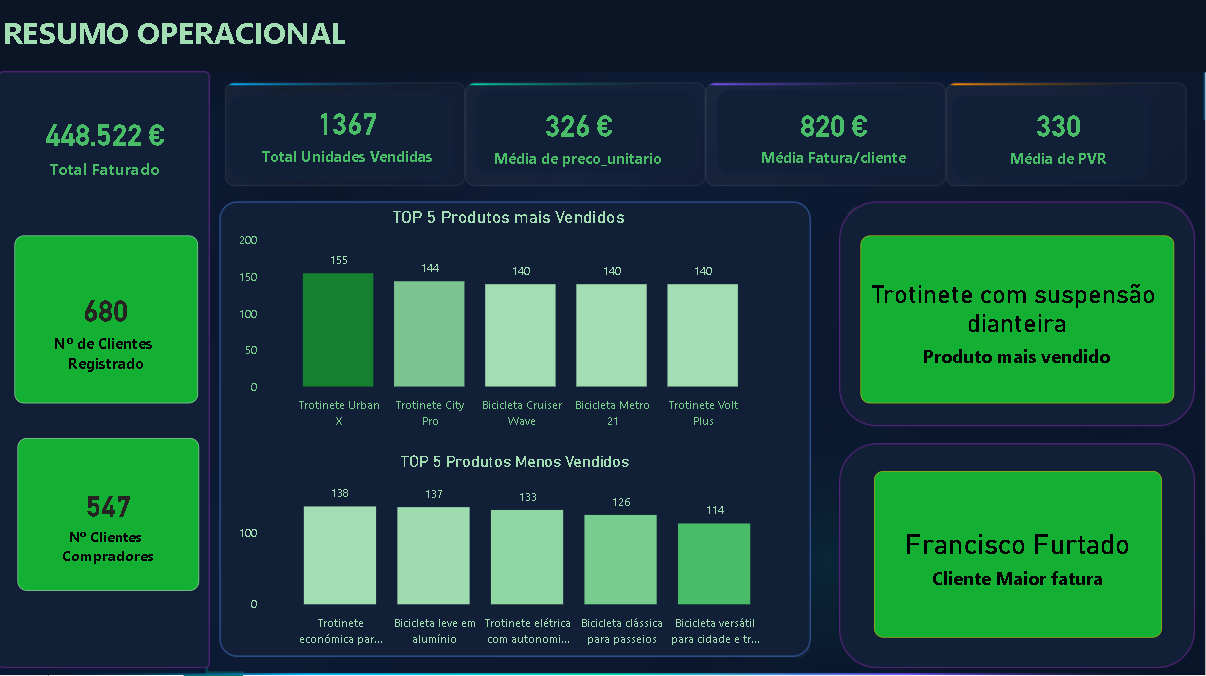

The page's visual inventory and layout, read from the dashboard file:
{"tool":"powerbi","page":{"name":"RESUMO ","canvas":[1280,720],"ordinal":0},"visuals":[{"type":"card","title":"dfsadfasdfas","fields":{"Values":["Sum(vendas.Total da Fatura)"]},"box":[18.2,89.1,190.4,133.7],"z":0},{"type":"card","fields":{"Values":["Sum(vendas.quantidade)"]},"box":[265.3,99.2,208.6,89.1],"z":1000},{"type":"card","fields":{"Values":["Avg(vendas.preco_unitario)"]},"box":[510.6,103.4,208.4,84.3],"z":2000},{"type":"card","fields":{"Values":["Avg(produtos.PVR)"]},"box":[1019.6,103.4,210,84.3],"z":3000},{"type":"card","fields":{"Values":["CountNonNull(clientes.id)"]},"box":[18.2,253.2,194.4,178.2],"z":4000},{"type":"card","fields":{"Values":["Count(vendas.cliente_id)"]},"box":[20.3,467.8,192.4,162],"z":5000},{"type":"card","fields":{"Values":["vendas.Soma de Total da Fatura dividido por Contagem de cliente_id"]},"box":[781,98.6,208.4,92.3],"z":6000},{"type":"card","fields":{"Values":["vendas.Nome do produto mais vendido"]},"box":[914.6,252.9,332.4,178.1],"z":7000},{"type":"card","fields":{"Values":["vendas.Nome Cliente Mais Vendas"]},"box":[928.9,502.6,305.4,176.6],"z":8000},{"type":"clusteredColumnChart","title":"TOP 5 Produtos mais Vendidos ","fields":{"Y":["vendas.Soma de quantidade máximo por produto_id"],"Category":["produtos.Designação"]},"box":[251.1,222.8,579.2,243],"z":9000},{"type":"clusteredColumnChart","title":"TOP 5 Produtos Menos Vendidos ","fields":{"Y":["vendas.Soma de quantidade máximo por produto_id"],"Category":["produtos.descricao"]},"box":[251.1,482,593.4,214.7],"z":10000},{"type":"textbox","box":[0,9.5,386.5,57.3],"z":11000}]}

Visuals, with their boxes in screenshot pixels (x1, y1, x2, y2), scaled from the page's 1280x720 canvas onto the 1206x676 screenshot:
"dfsadfasdfas" card: {"x1": 17, "y1": 84, "x2": 197, "y2": 209}
card - Sum(vendas.quantidade): {"x1": 250, "y1": 93, "x2": 447, "y2": 177}
card - Avg(vendas.preco_unitario): {"x1": 481, "y1": 97, "x2": 677, "y2": 176}
card - Avg(produtos.PVR): {"x1": 961, "y1": 97, "x2": 1159, "y2": 176}
card - CountNonNull(clientes.id): {"x1": 17, "y1": 238, "x2": 200, "y2": 405}
card - Count(vendas.cliente_id): {"x1": 19, "y1": 439, "x2": 200, "y2": 591}
card - vendas.Soma de Total da Fatura dividido por Contagem de cliente_id: {"x1": 736, "y1": 93, "x2": 932, "y2": 179}
card - vendas.Nome do produto mais vendido: {"x1": 862, "y1": 237, "x2": 1175, "y2": 405}
card - vendas.Nome Cliente Mais Vendas: {"x1": 875, "y1": 472, "x2": 1163, "y2": 638}
"TOP 5 Produtos mais Vendidos " clusteredColumnChart: {"x1": 237, "y1": 209, "x2": 782, "y2": 437}
"TOP 5 Produtos Menos Vendidos " clusteredColumnChart: {"x1": 237, "y1": 453, "x2": 796, "y2": 654}
textbox: {"x1": 0, "y1": 9, "x2": 364, "y2": 63}
